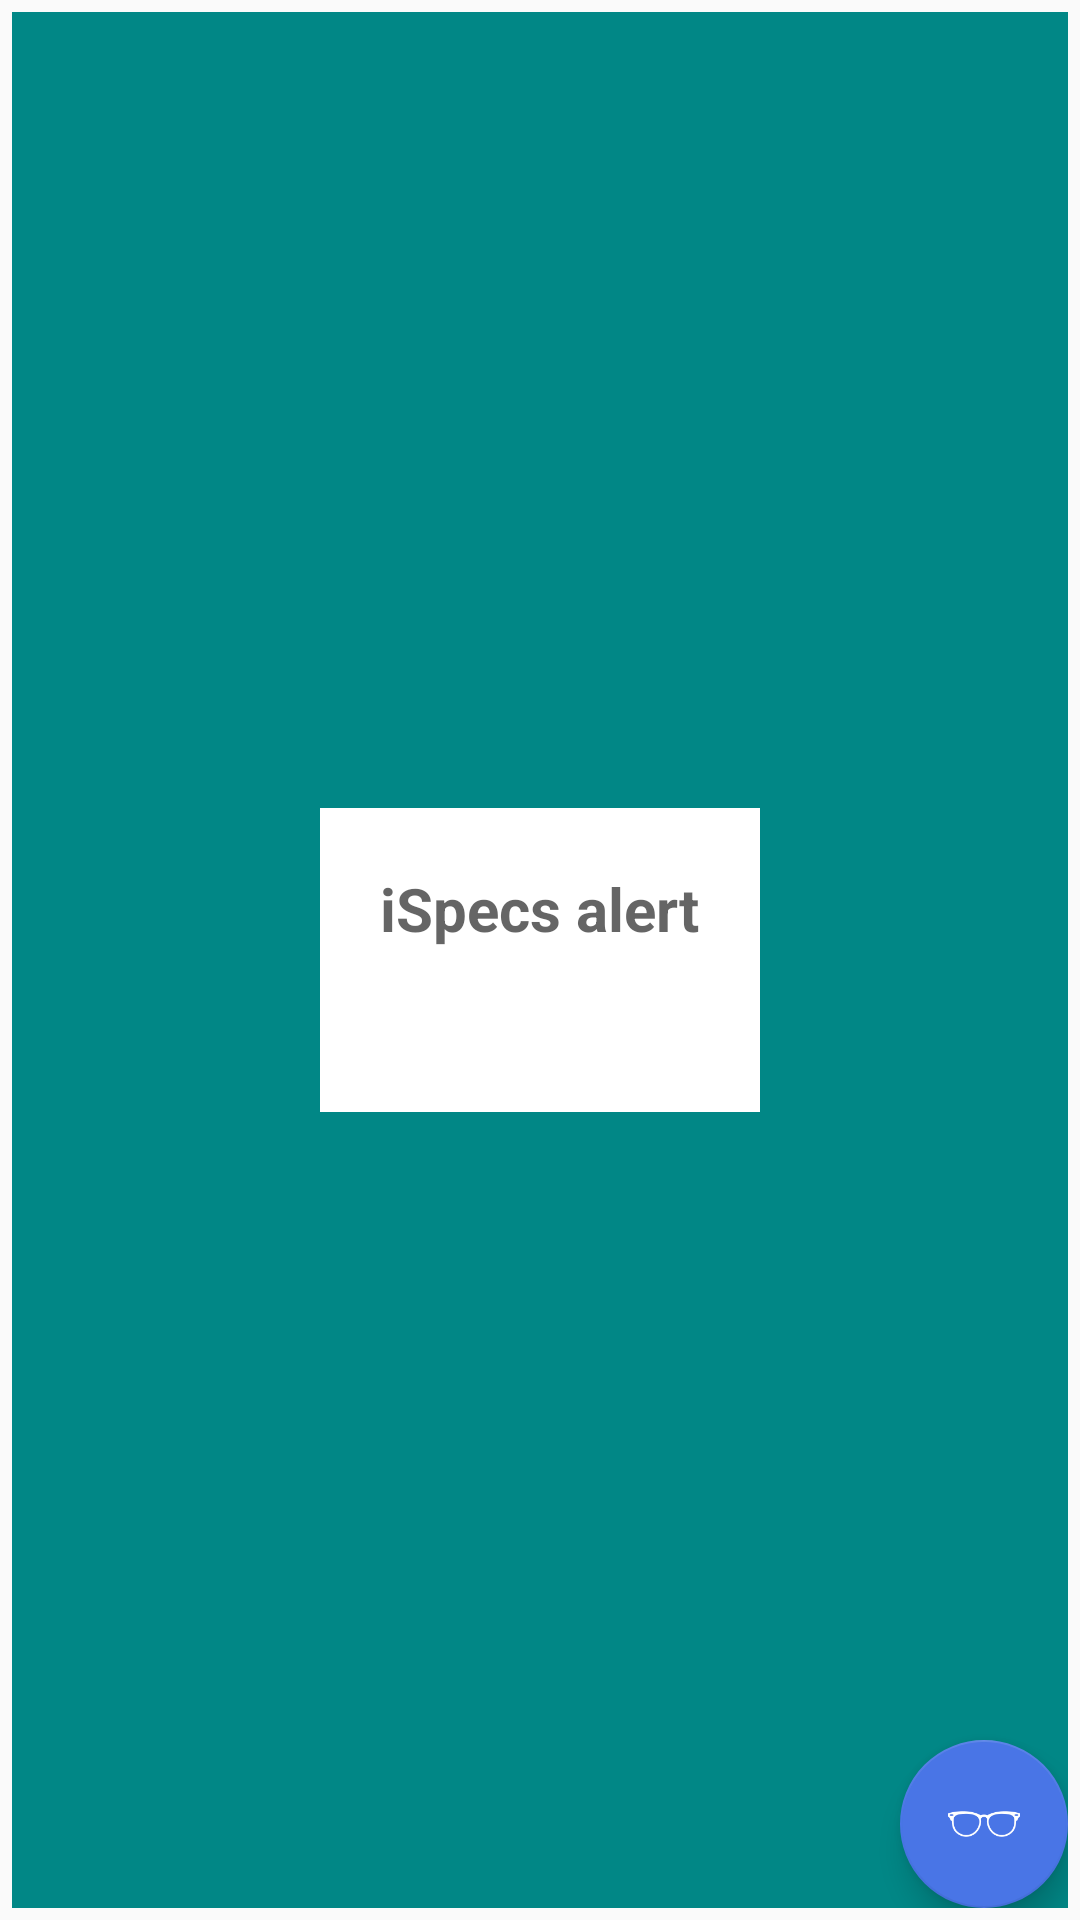

Screen size 1080px×1920px. Icon name, then its center in pixels as (x=x, y=y):
glasses: (x=984, y=1824)
